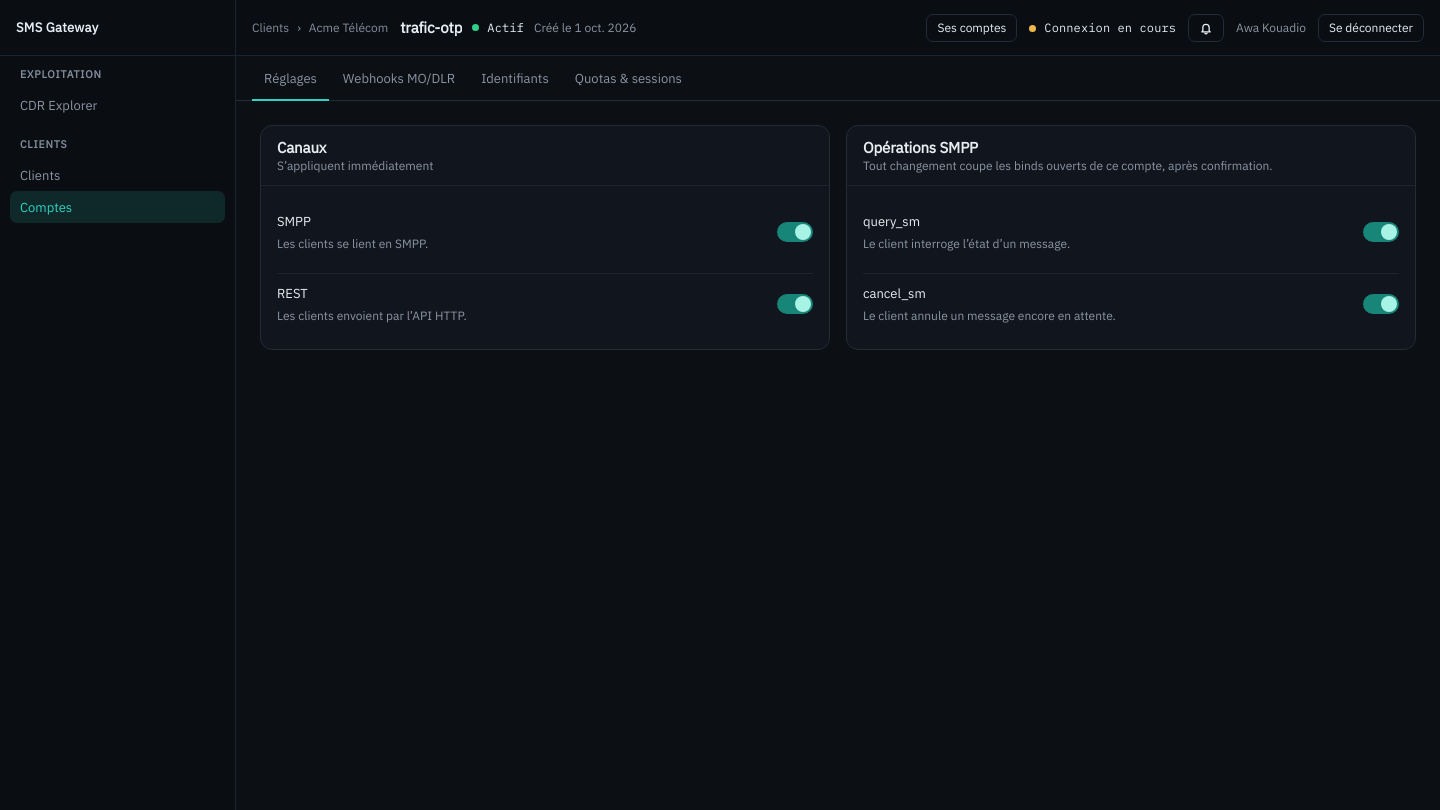
Scenario: the account screen › leaves an SMPP operation as it was when the operator cancels
This screenshot has width=1440, height=810.
Click the switch named "query_sm" in the row of "Le client interroge l’état d’un message." at (1381, 232), box left=1363, top=222, right=1399, bottom=242
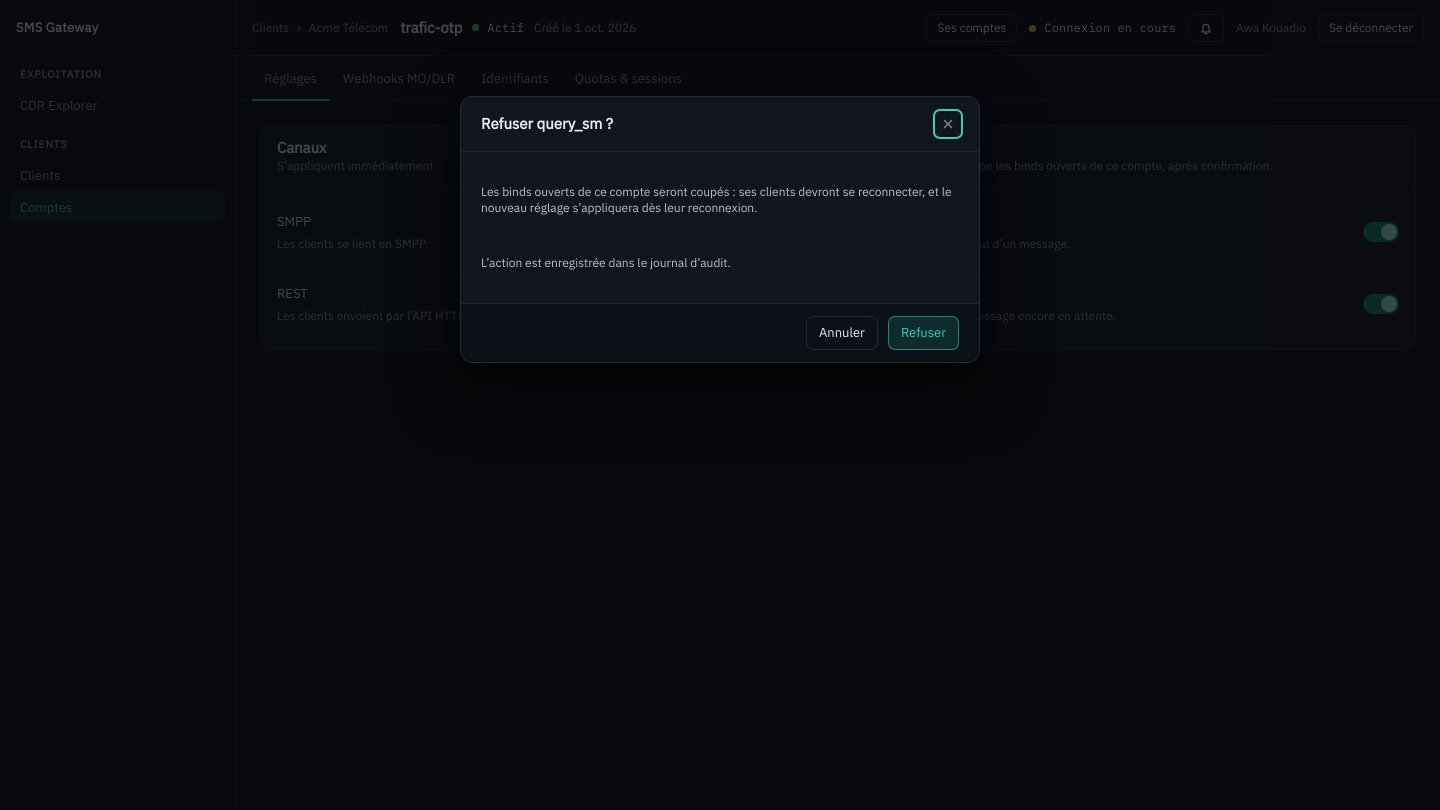
Click the button "Annuler" at (842, 333), box left=806, top=316, right=878, bottom=350
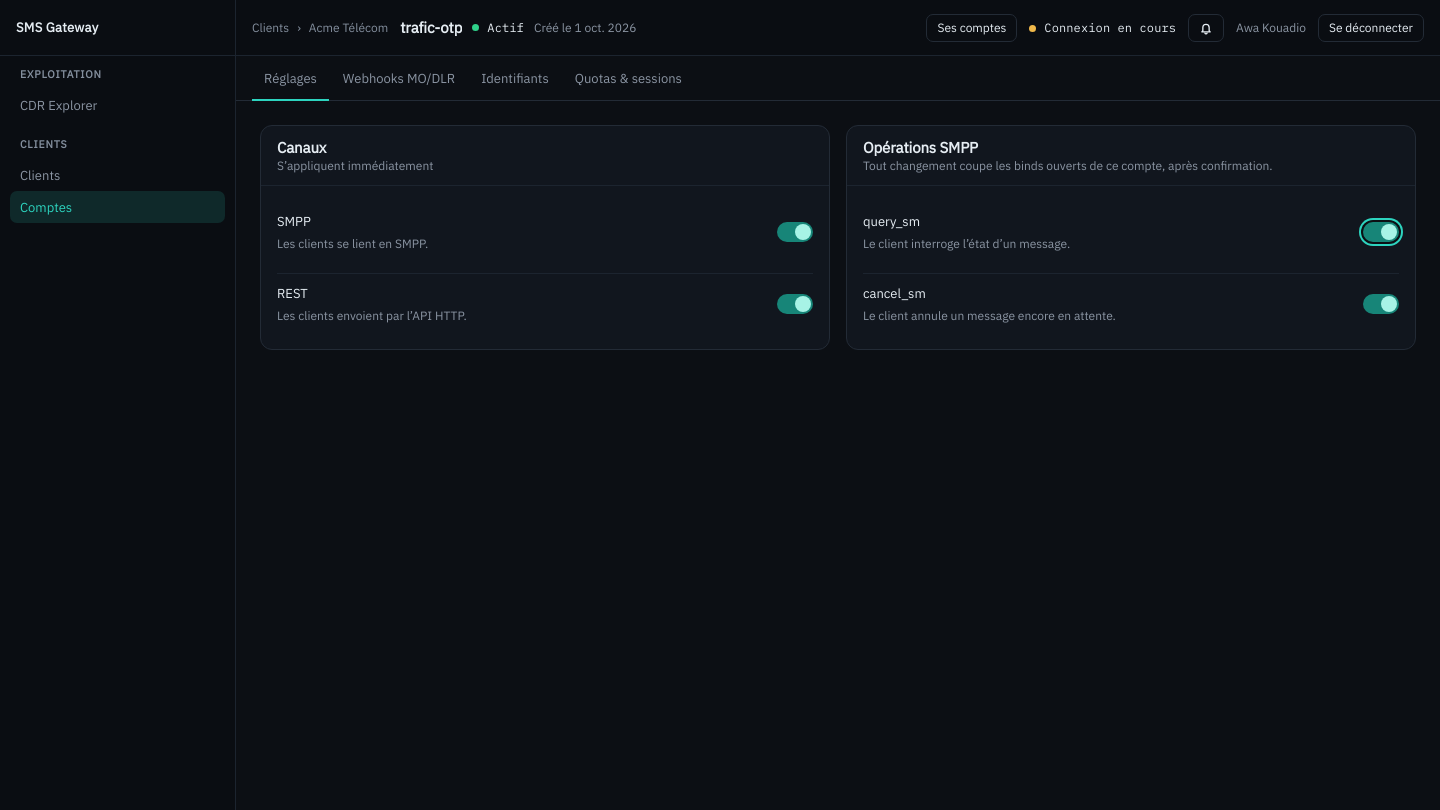
Expected: the switch named "query_sm" in the row of "Le client interroge l’état d’un message." is checked, left=1363, top=222, right=1399, bottom=242
Expected: the dialog is gone
